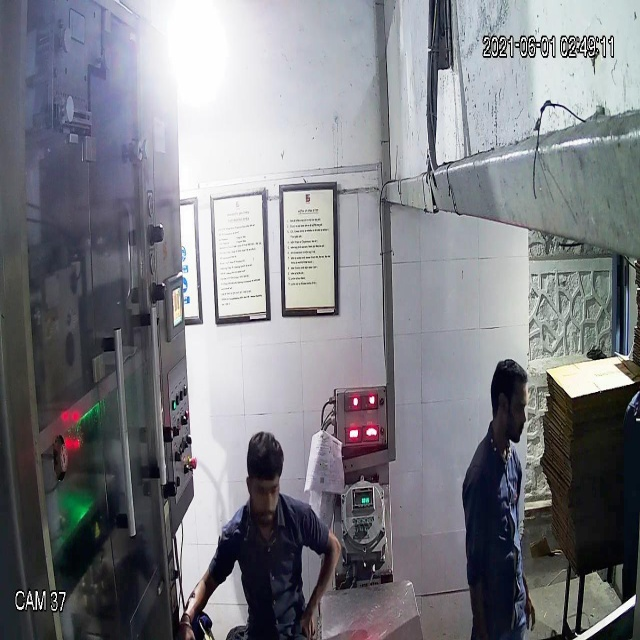Sin_gafas: (242, 471, 286, 508)
